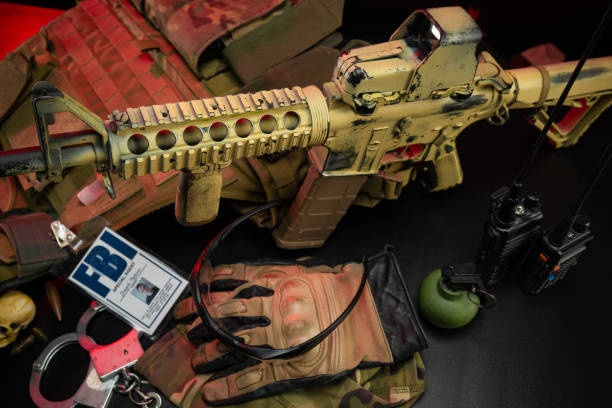e1: (421, 264, 496, 337)
